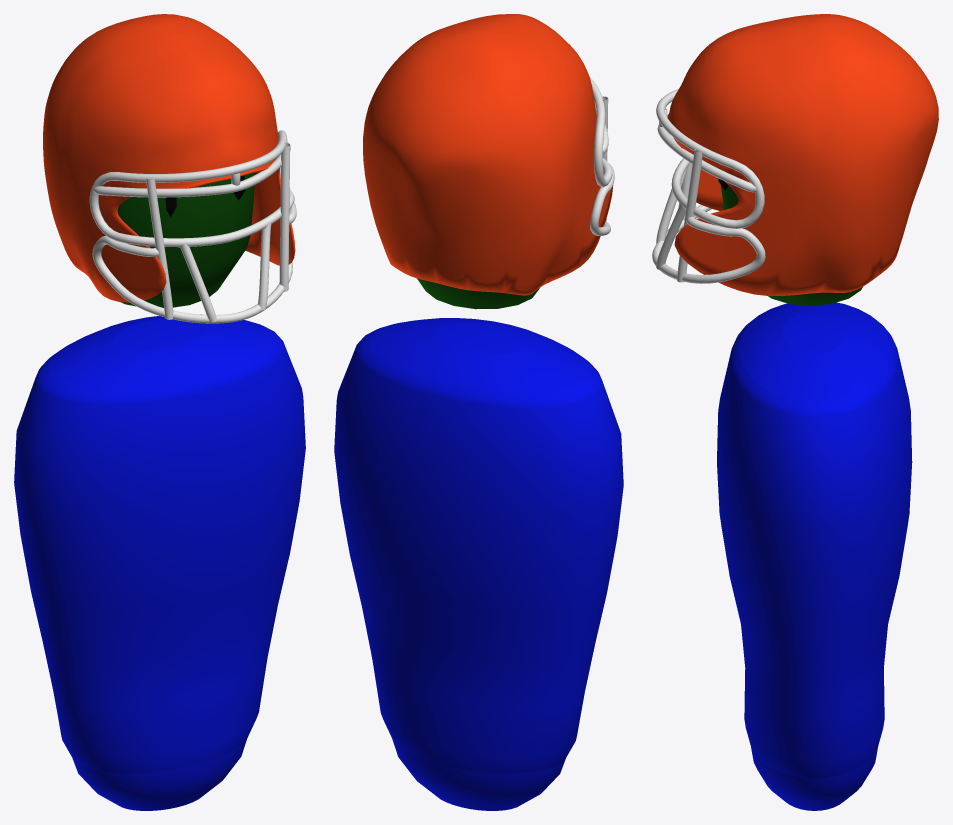
The model's file is futball_model_new.fbx.
The picture shows the model from 3 angles, left to right: view 1: azimuth 30°, elevation 25°; view 2: azimuth 150°, elevation 25°; view 3: azimuth 270°, elevation 25°; orthographic projection.
Visible parts, largest first — view 1: Player Character Base Template.002, Icosphere.001, Player Character Base Template.004, BezierCurve.001, BezierCurve.003, BezierCurve.002, BezierCurve.006, BezierCurve.007, BezierCurve.004, BezierCurve.005; view 2: Player Character Base Template.002, Icosphere.001, Player Character Base Template.004, BezierCurve.001, BezierCurve.003; view 3: Player Character Base Template.002, Icosphere.001, BezierCurve.001, BezierCurve.003, Player Character Base Template.004, BezierCurve.002, BezierCurve.006, BezierCurve.004, BezierCurve.005.
Boxes of the visible parts, x1,y1,x2,y2 form: Player Character Base Template.002: (14,314,305,810); Icosphere.001: (43,14,295,302); Player Character Base Template.004: (117,172,255,307); BezierCurve.001: (89,130,294,247); BezierCurve.003: (92,202,296,323); BezierCurve.002: (93,142,290,197); BezierCurve.006: (279,143,290,291); BezierCurve.007: (146,176,173,319); BezierCurve.004: (258,223,271,309); BezierCurve.005: (180,243,216,322); Player Character Base Template.002: (334,318,623,810); Icosphere.001: (363,14,613,295); Player Character Base Template.004: (417,278,540,309); BezierCurve.001: (589,76,612,187); BezierCurve.003: (590,164,614,235); Player Character Base Template.002: (717,302,912,810); Icosphere.001: (667,14,938,295); BezierCurve.001: (656,89,764,228); BezierCurve.003: (652,205,765,283); Player Character Base Template.004: (720,185,862,305); BezierCurve.002: (657,125,756,192); BezierCurve.006: (677,148,702,282); BezierCurve.004: (656,202,685,269); BezierCurve.005: (656,161,688,243).
Bounding box in the file's own units: 284 × 769 × 257.
